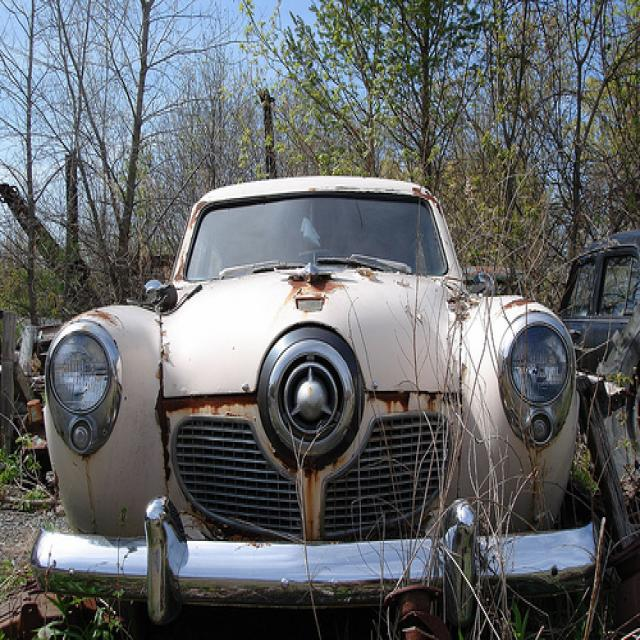Car: (18, 173, 594, 613)
